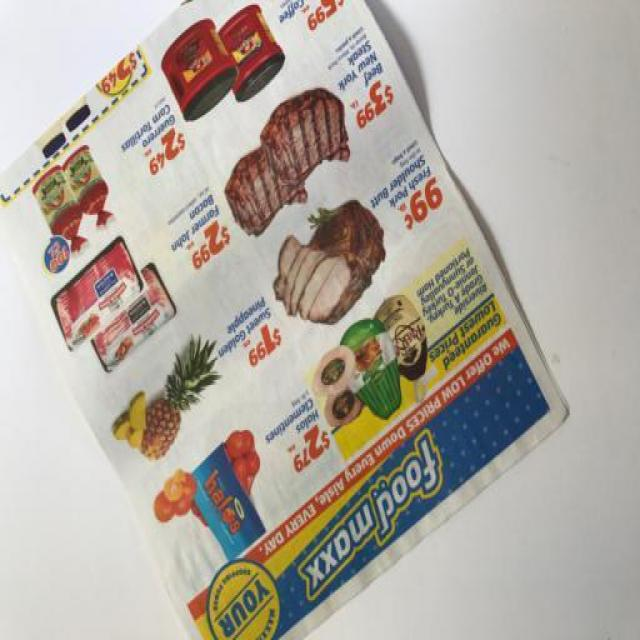paper: (5, 24, 561, 570)
